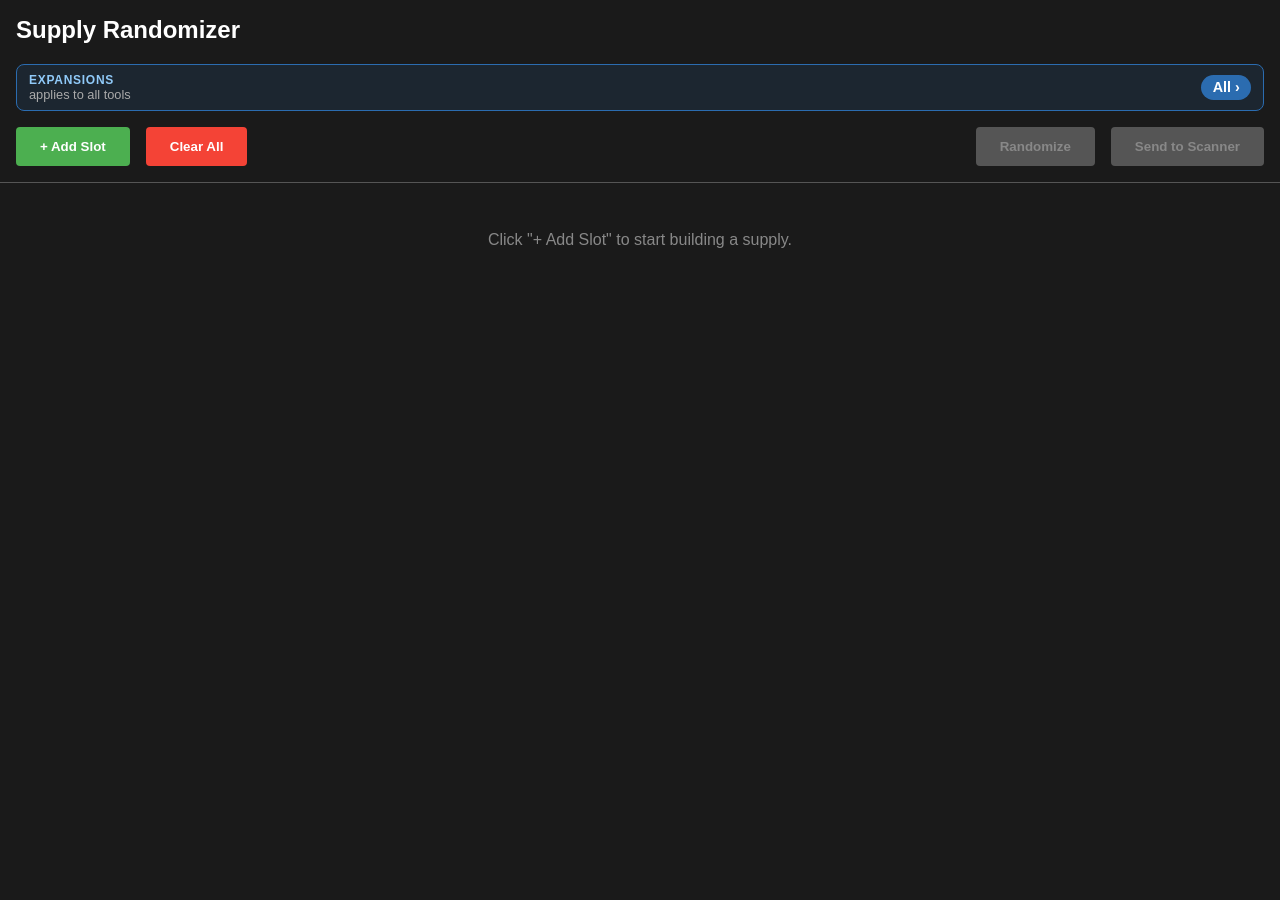
Test: SupplyRandomizerScreen › keeps the original error text when the Expansions setting is "All"
Click the button "+ Add Slot": (73, 146) [16,127,130,166]
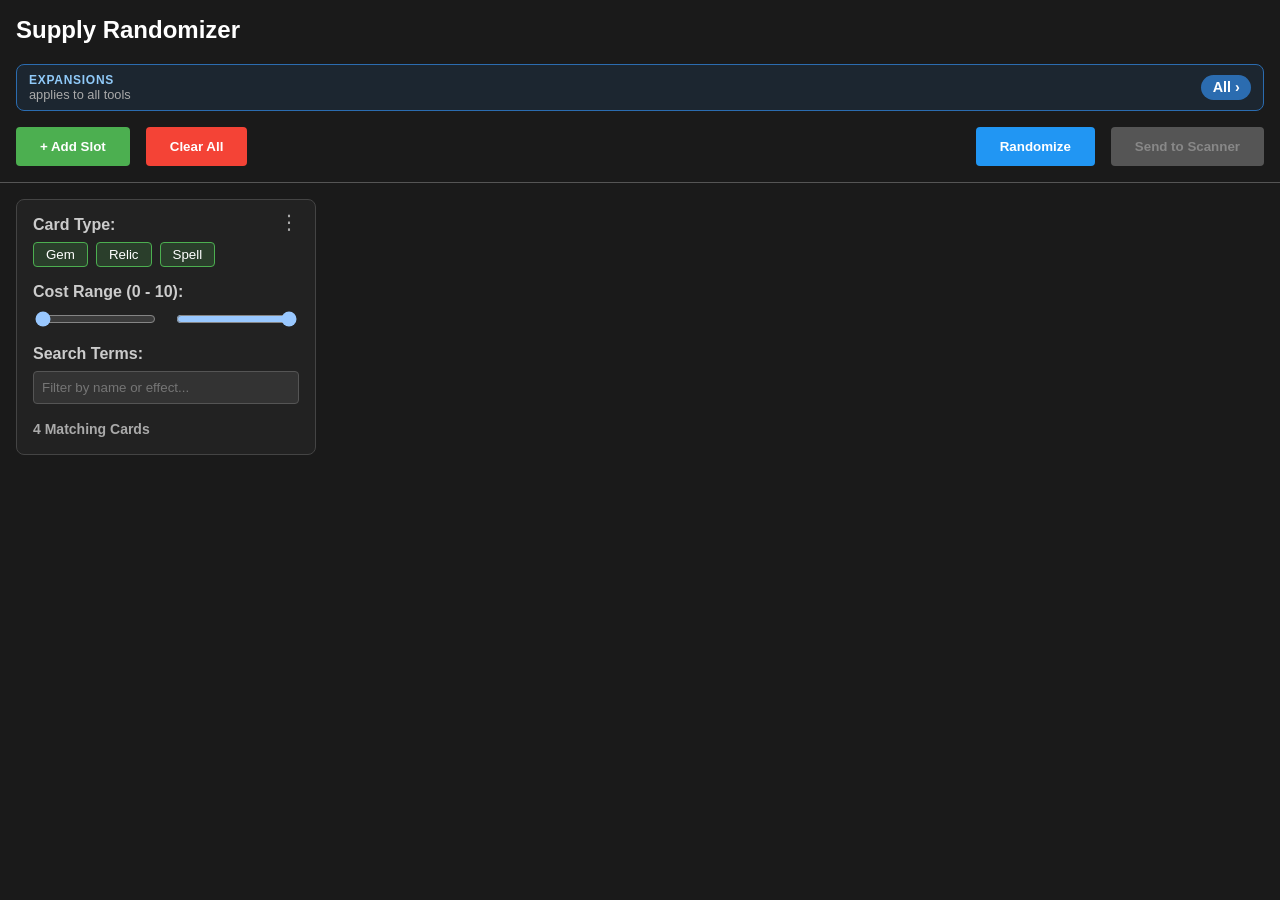
Click the button "+ Add Slot": (73, 146) [16,127,130,166]
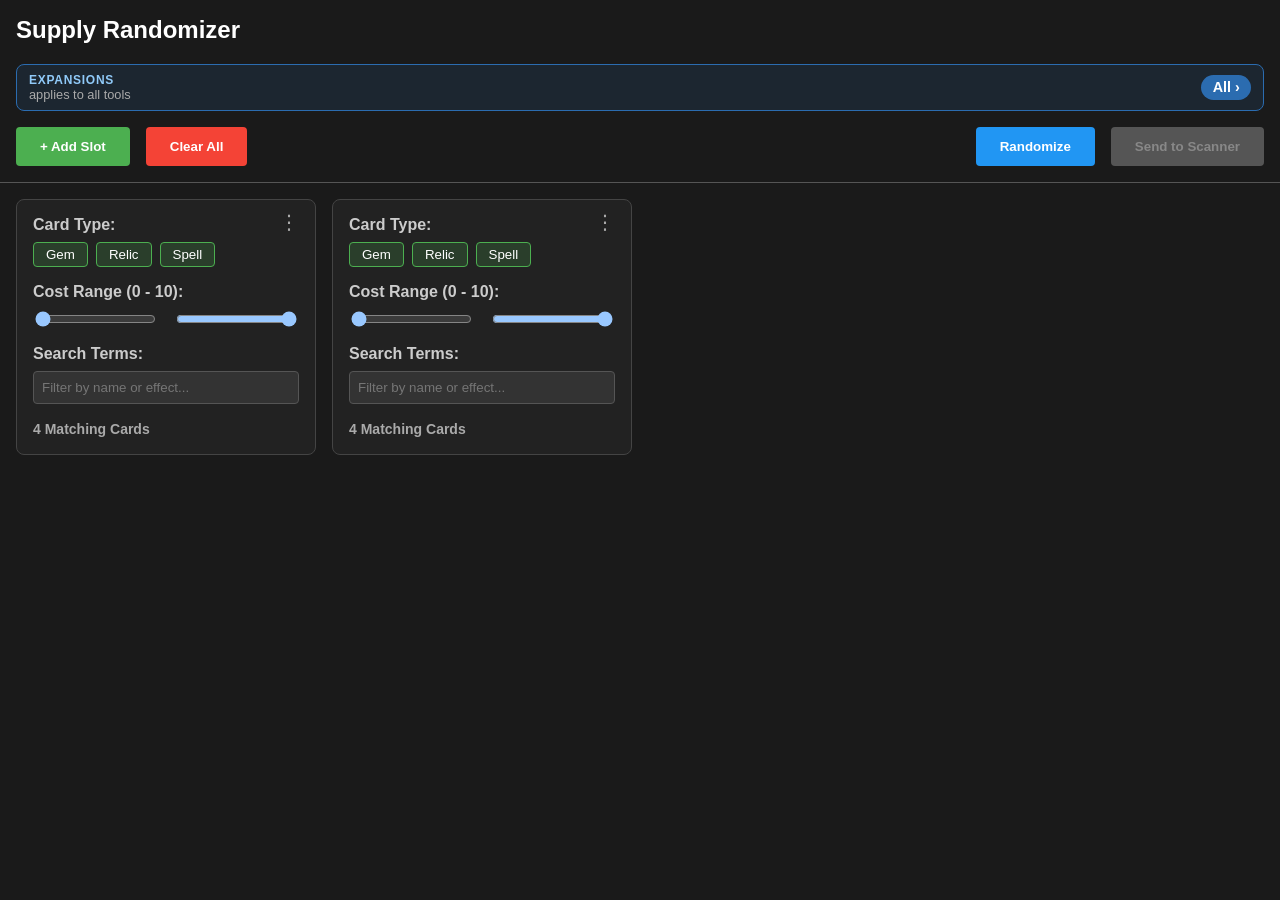
Click the button "+ Add Slot": (73, 146) [16,127,130,166]
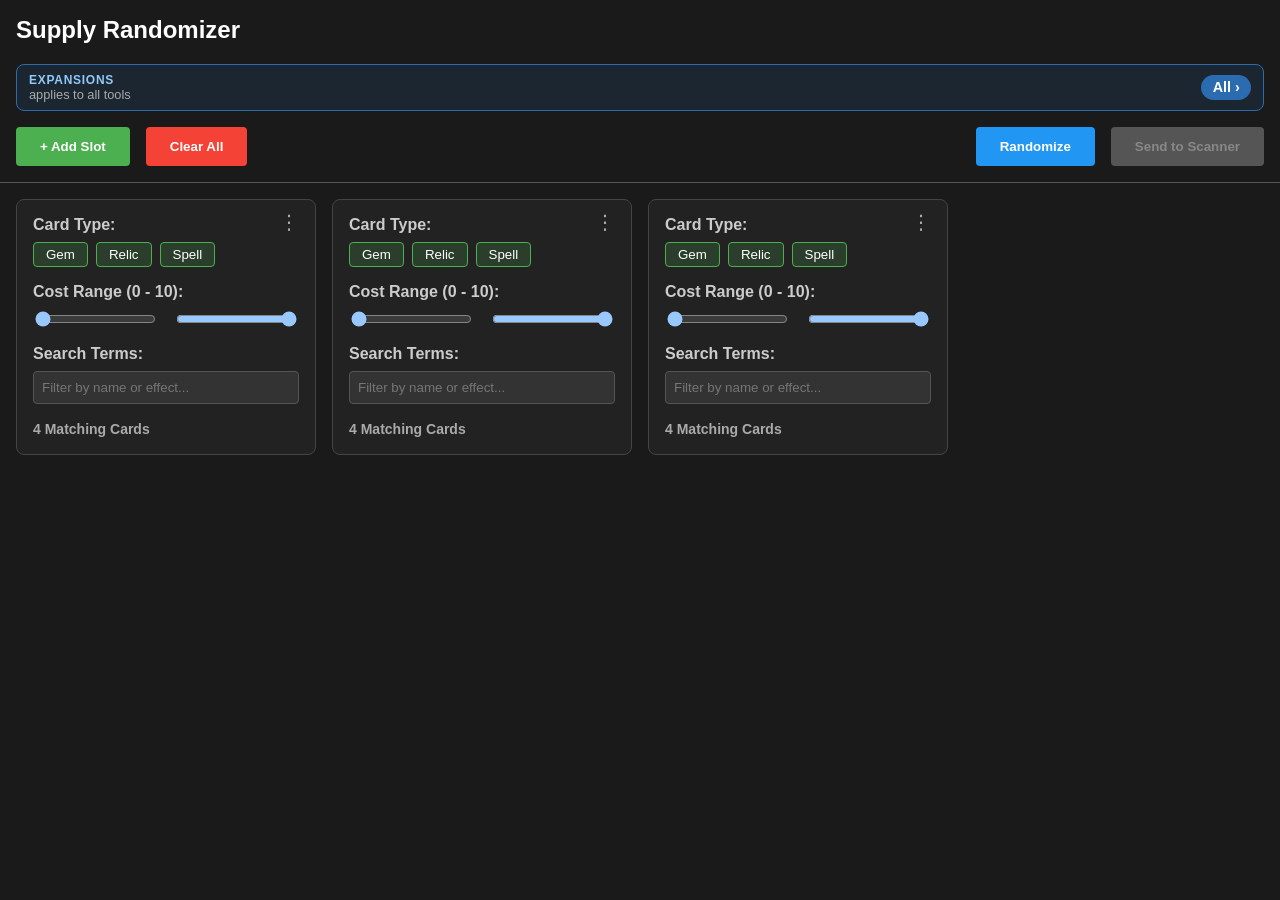
Click the button "+ Add Slot": (73, 146) [16,127,130,166]
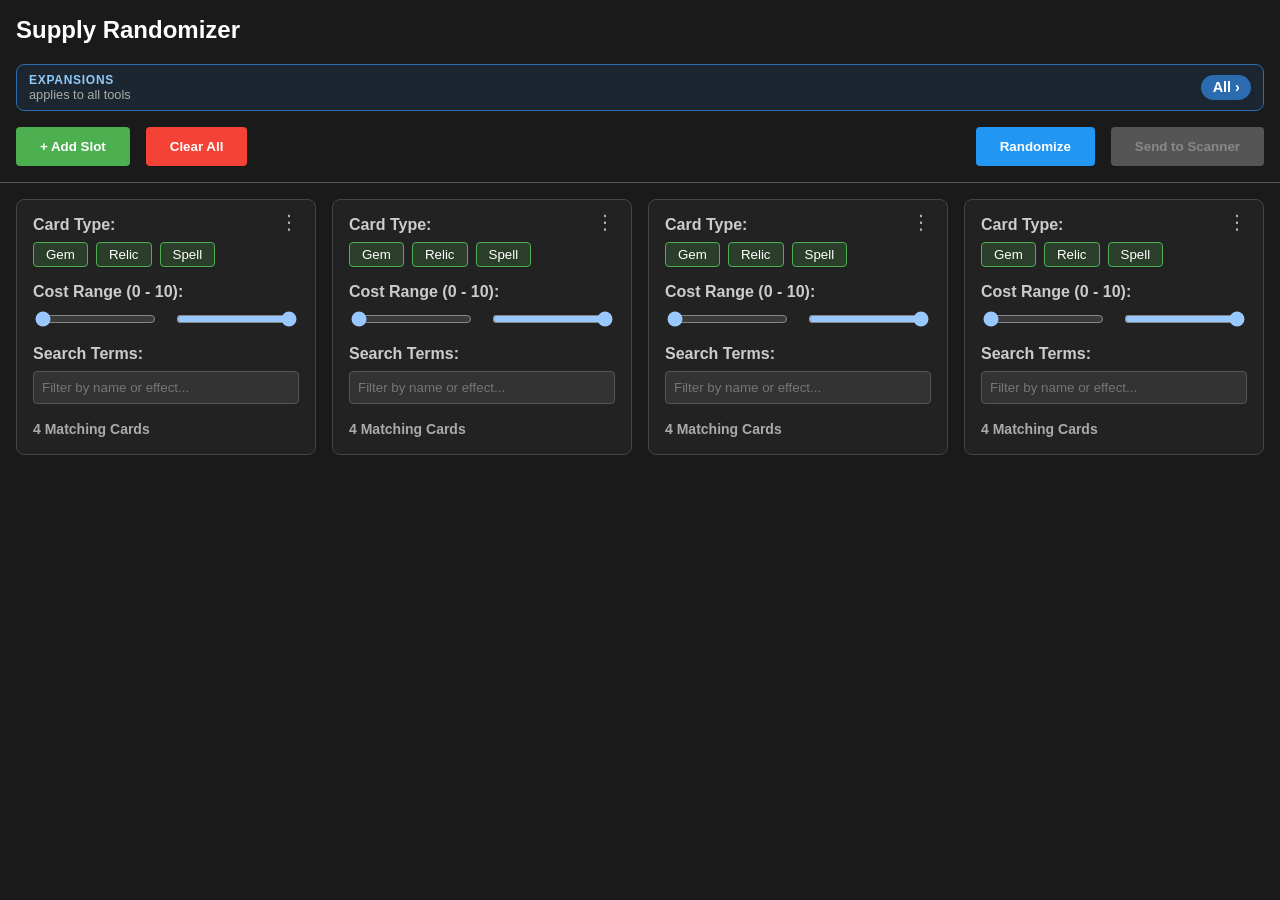
Click the button "+ Add Slot": (73, 146) [16,127,130,166]
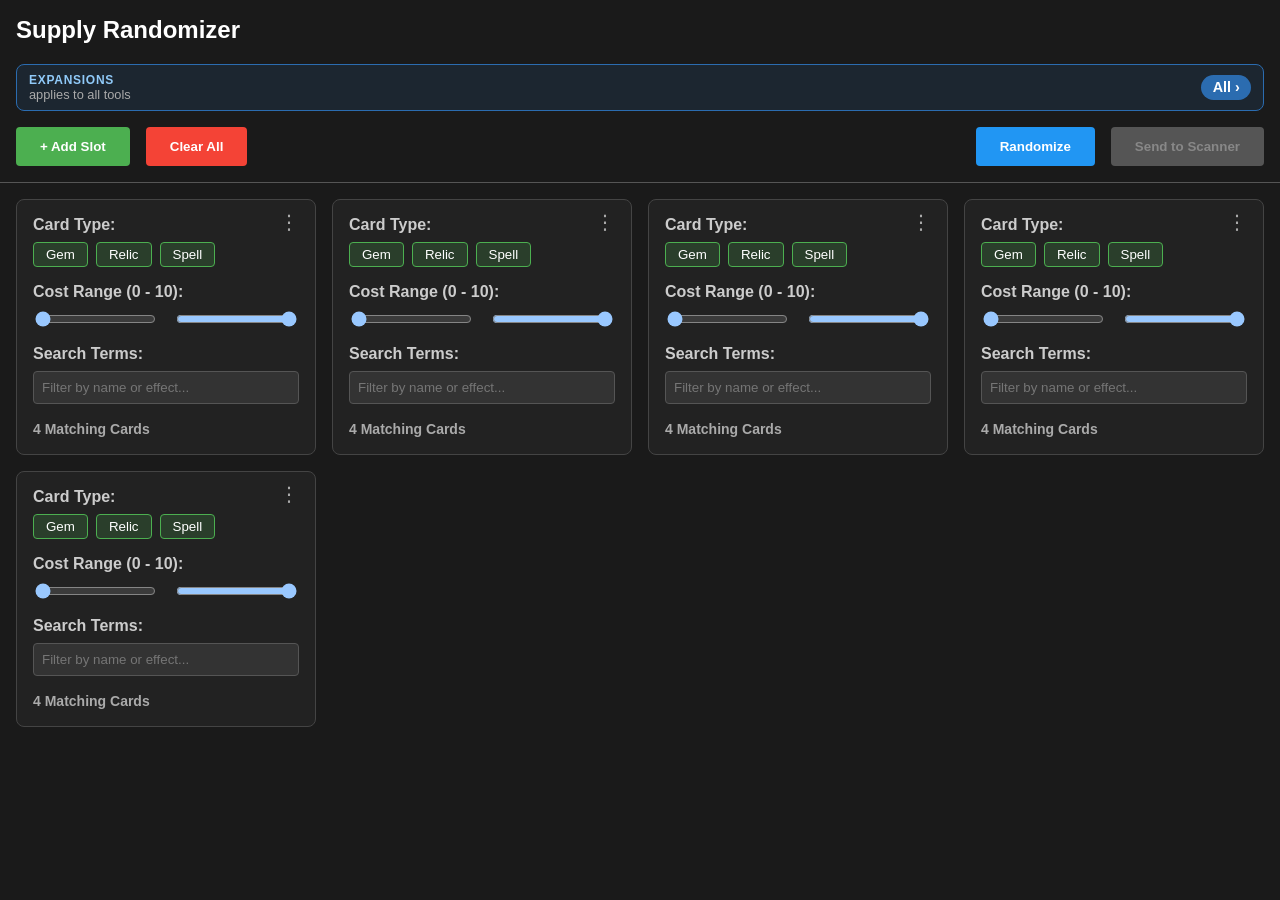
Click the button "Randomize": (1035, 146) [976,127,1095,166]
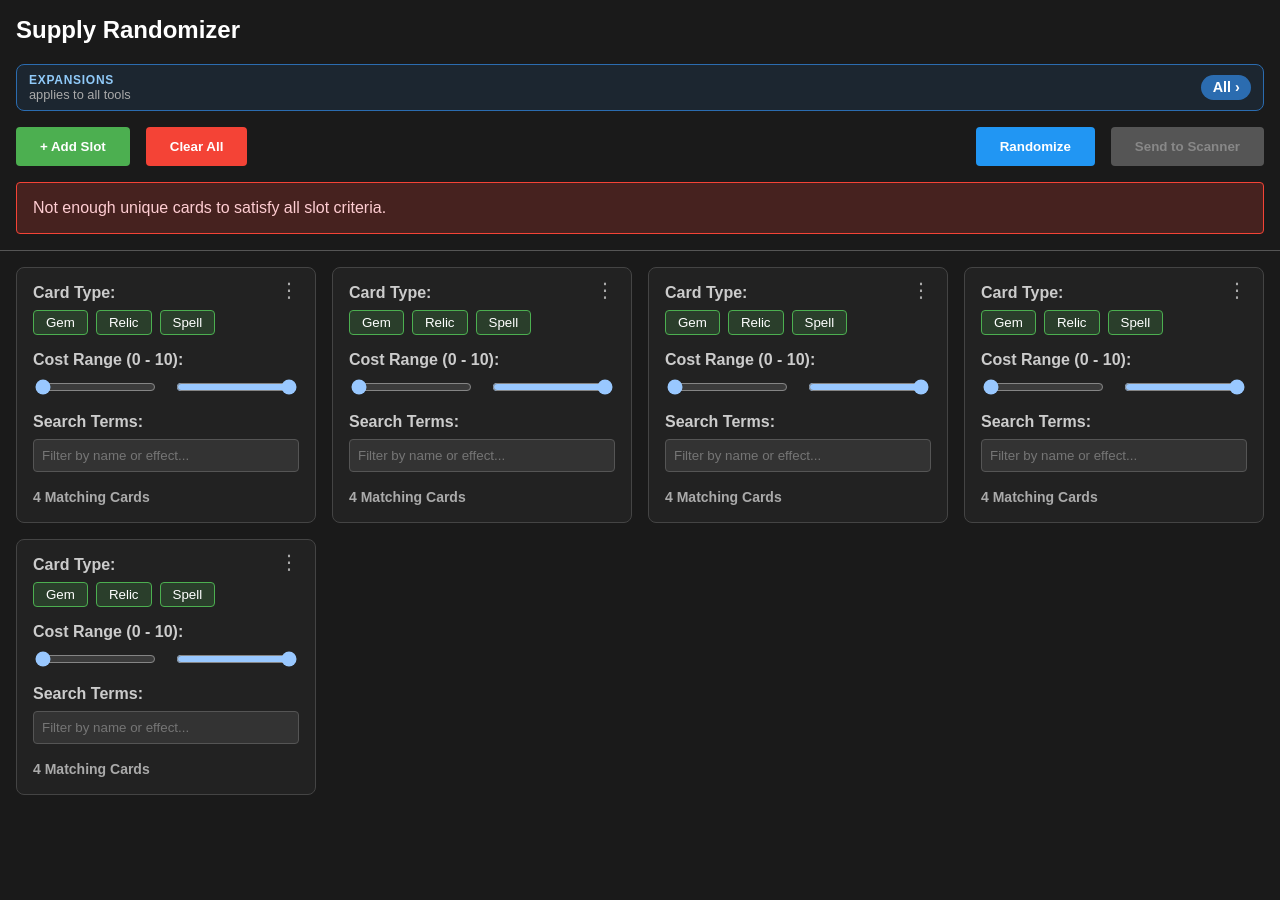
Now the text "Not enough unique cards to satisfy all slot criteria." is shown, box [16,182,1264,234]
